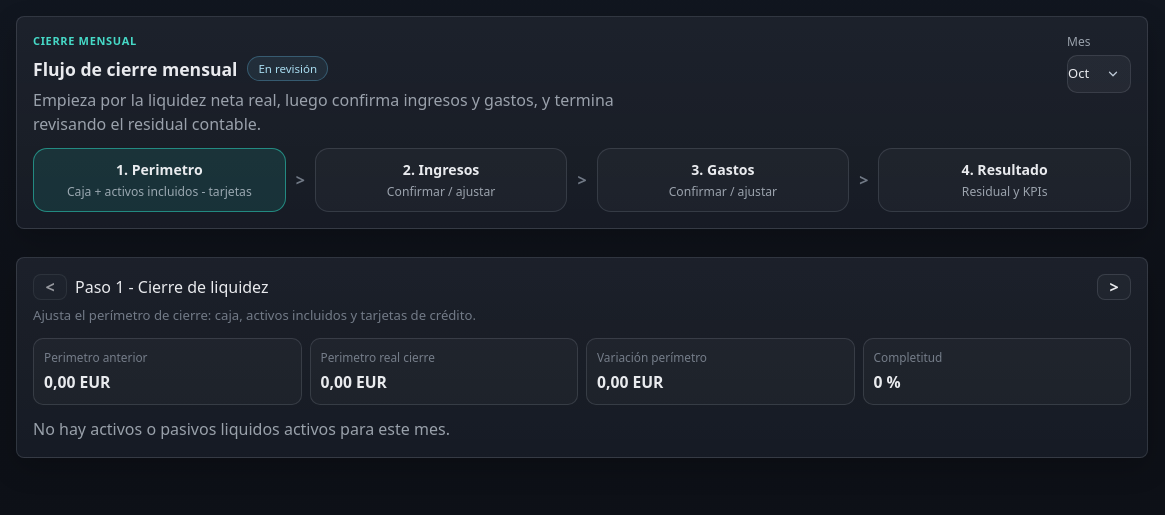
Test case: BudgetDashboardView › groups categorized ledger execution across multiple lines in the same taxonomy slot
Click the button "2. Ingresos Confirmar / ajustar". click: (441, 180)
box: x1=315 y1=148 x2=567 y2=212
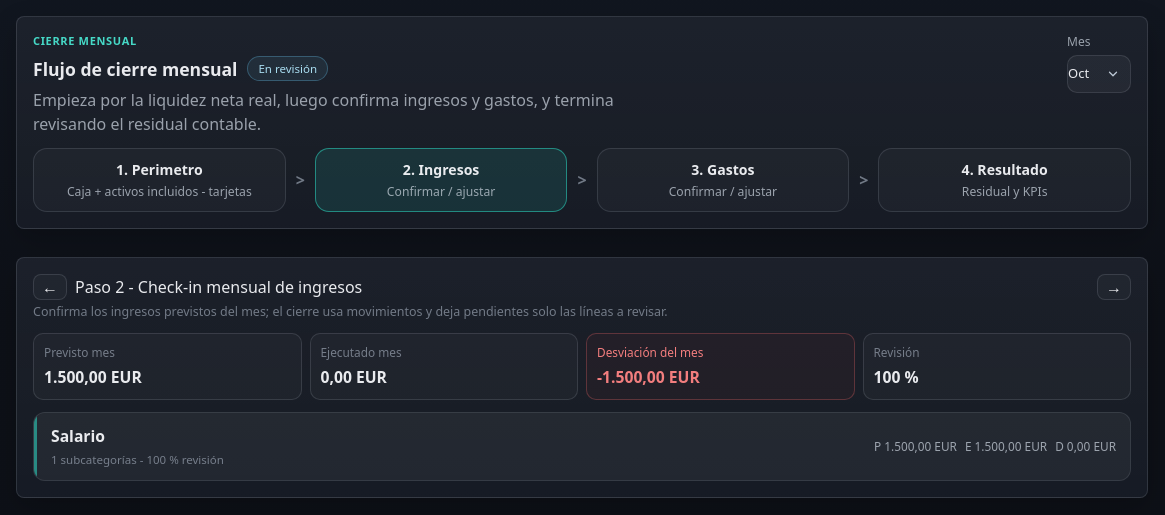
Now the text "1.500,00 EUR" is shown, box x1=44 y1=366 x2=142 y2=388
